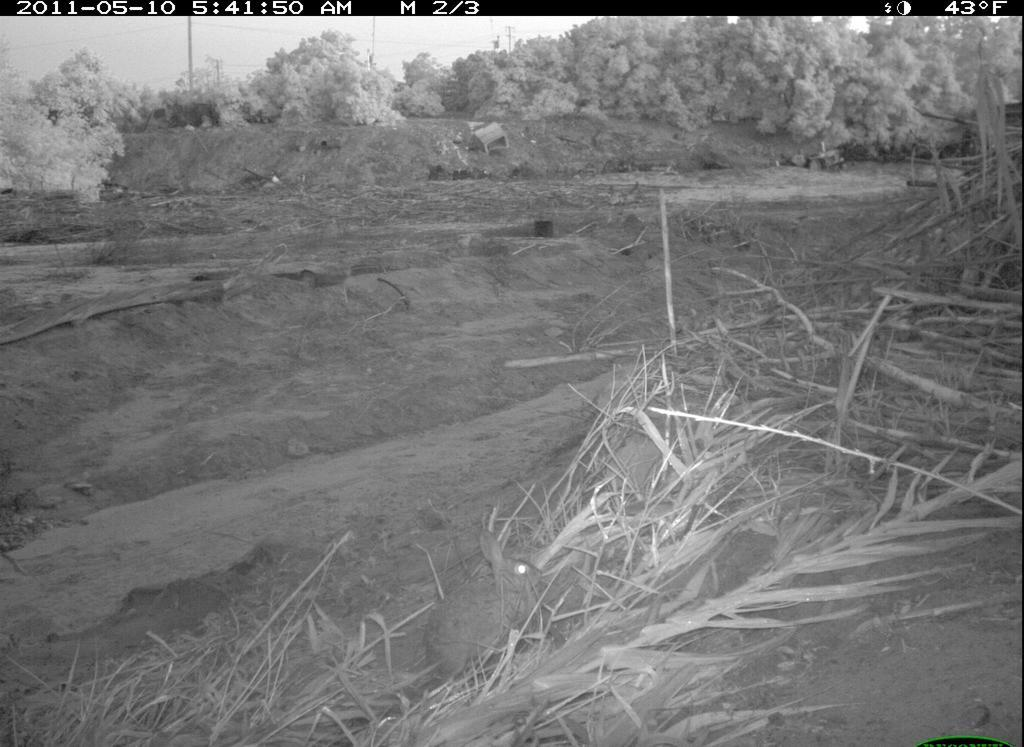rabbit: (408, 520, 547, 681)
